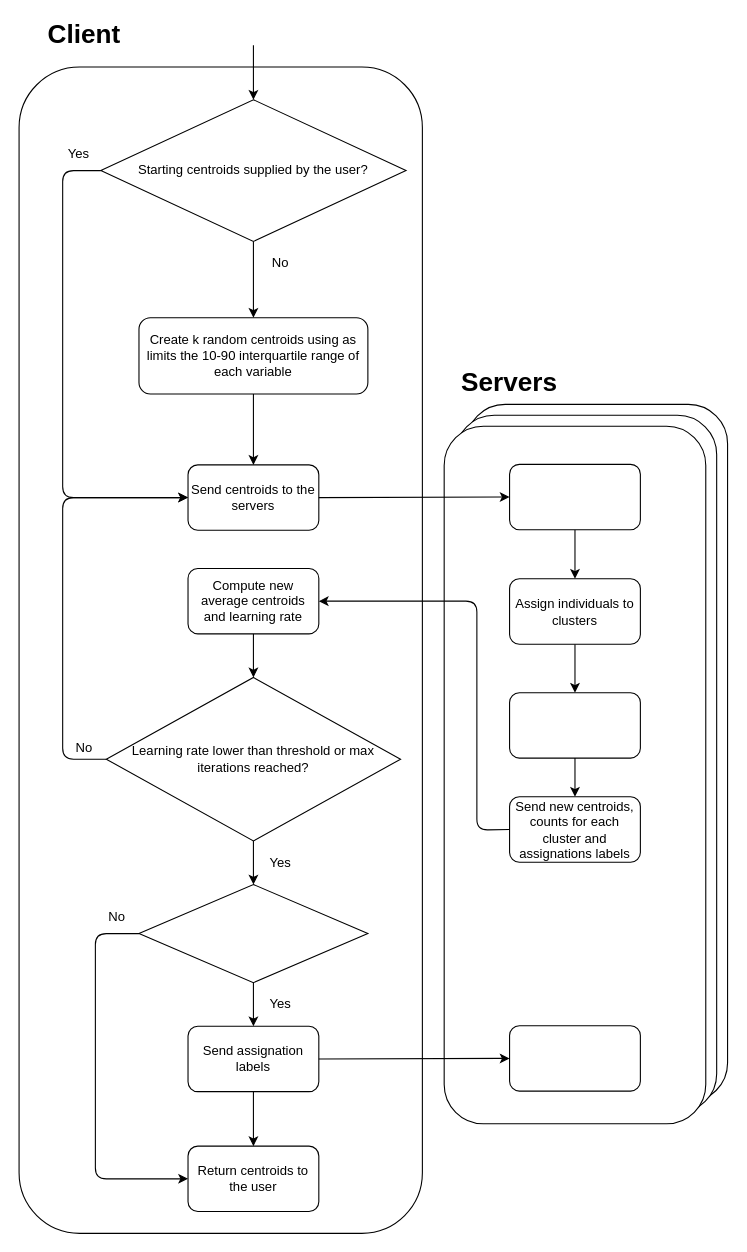
The diagram is 747 pixels wide and 1252 high, and some of its shapes have lost their labels. The centre of each missing label's shape, as x and y in pixels:
Add column to the dataframes with the assignation labels: (574,1058)
Assign results on the server dataframes?: (253,933)
Calculate distance between individuals and centroids: (574,496)
Calculate new centroids of clusters: (574,725)
